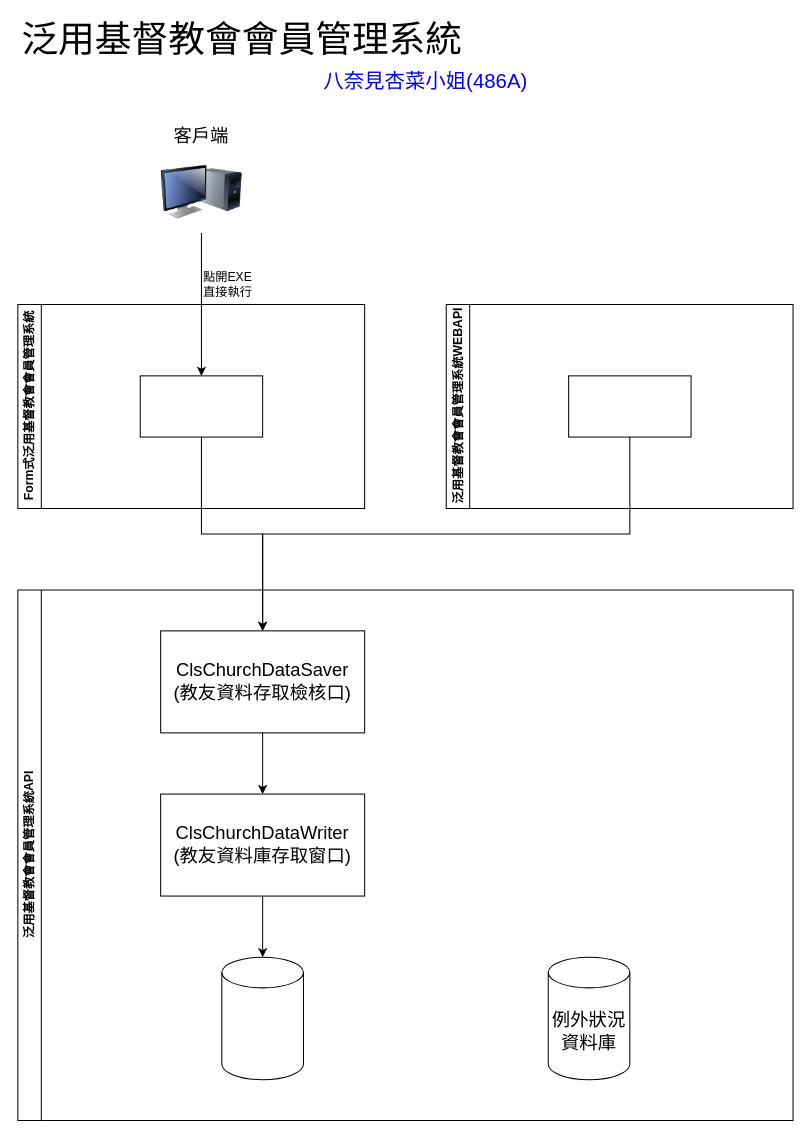
Some shapes in this 811 by 1138 pixel diagram are drawn without their labels. The shapes that lost their labels are listed below. From the top down, each one's centre as x and y in pixels, then its label:
At point (201, 406): "Forms".
At point (629, 406): "Controllers".
At point (262, 1018): "教會 會員 資料庫".
